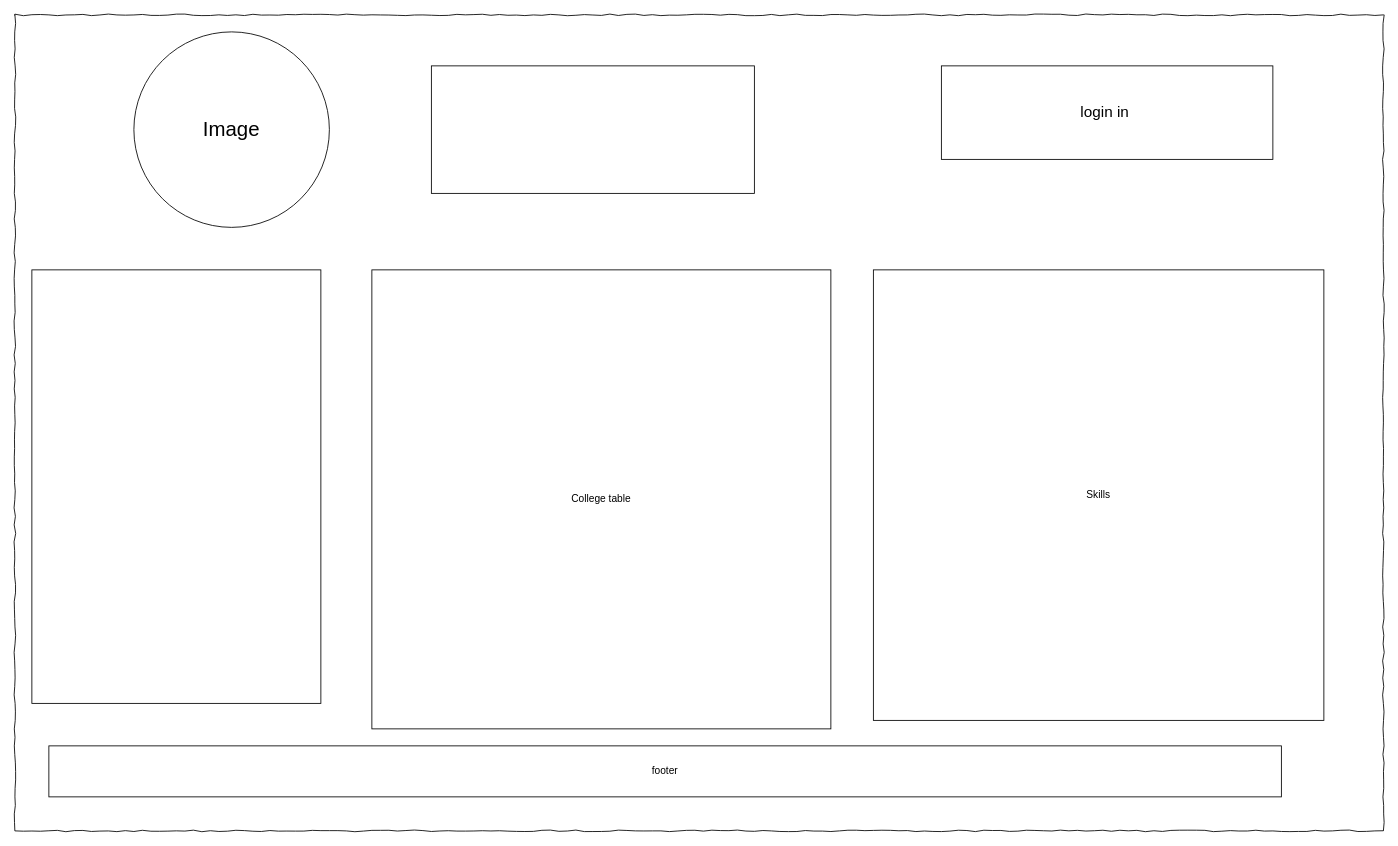
The diagram is 1398 pixels wide and 846 high, and some of its shapes have lost their labels. The shapes that lost their labels are listed below. From the top down, each one's centre as x and y in pixels, then its label:
At pixel 592 129: "Contact Details".
At pixel 176 486: "SideBar".
